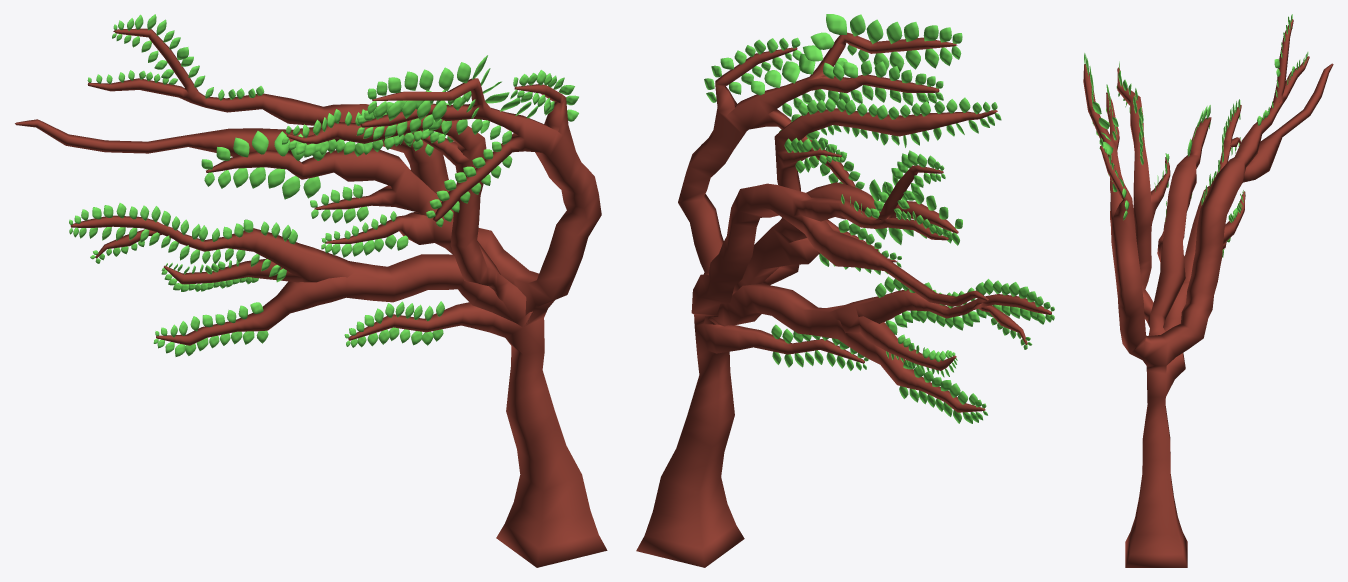
Rendered from Arbol_chileno_1.fbx.
The picture shows the model from 3 angles, left to right: view 1: azimuth 30°, elevation 25°; view 2: azimuth 150°, elevation 25°; view 3: azimuth 270°, elevation 25°; orthographic projection. The views are drawn at different scales.
Visible parts, largest first — view 1: Cube, Plane; view 2: Cube, Plane; view 3: Cube, Plane.
Part boxes in pixels (x1=…): Cube: x1=15, y1=28, x2=607, y2=567; Plane: x1=69, y1=14, x2=578, y2=356; Cube: x1=636, y1=32, x2=1051, y2=567; Plane: x1=704, y1=14, x2=1054, y2=423; Cube: x1=1083, y1=19, x2=1333, y2=567; Plane: x1=1084, y1=14, x2=1308, y2=257.
Size of the model in its own units: 3.28 by 2.01 by 3.72.
